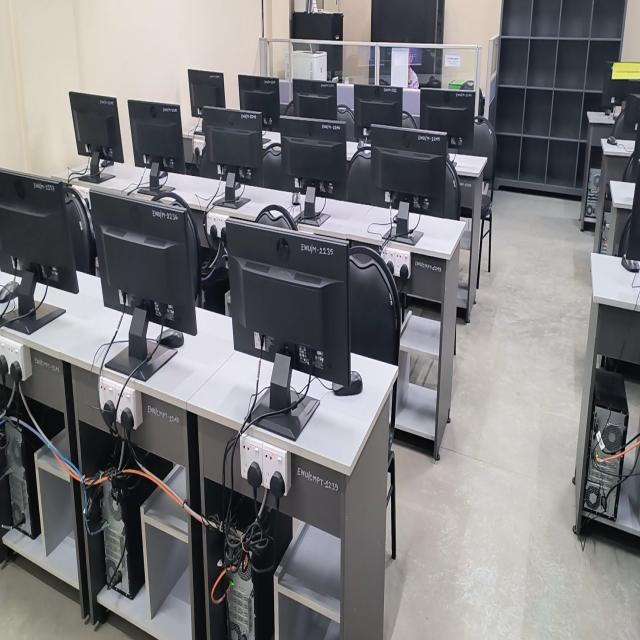Chair: (348, 245, 401, 364), (152, 191, 201, 303), (65, 187, 97, 274), (346, 146, 387, 206), (467, 115, 497, 190), (263, 143, 297, 191), (443, 159, 461, 219), (256, 206, 296, 229), (337, 104, 357, 142), (402, 111, 417, 127)
Cpu: (583, 376, 629, 520), (221, 524, 256, 639), (103, 484, 130, 596), (6, 425, 30, 533), (288, 245, 299, 268), (305, 253, 311, 268), (299, 255, 303, 266)
Monitor: (225, 220, 360, 386), (90, 190, 200, 335), (0, 168, 79, 293), (369, 125, 447, 217), (128, 100, 185, 190), (200, 106, 263, 185), (281, 118, 347, 193), (69, 92, 124, 175), (419, 88, 474, 153), (354, 85, 403, 135), (239, 75, 280, 130), (292, 79, 337, 120), (602, 63, 640, 109), (188, 69, 225, 116), (626, 166, 640, 261), (624, 94, 640, 131)
Mouse: (333, 371, 363, 396), (0, 279, 20, 303), (159, 329, 184, 348), (621, 255, 640, 272), (291, 193, 300, 205)
